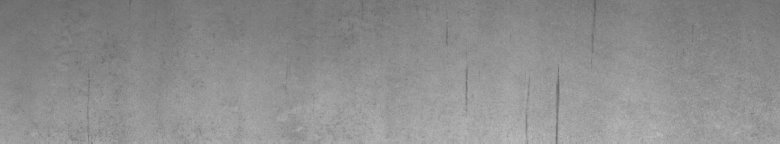ka: (465, 4, 596, 136)
